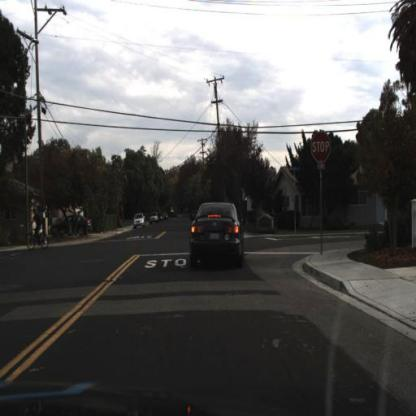biker: (25, 205, 50, 255)
car: (191, 203, 244, 263), (53, 215, 93, 238), (134, 212, 147, 230), (149, 208, 160, 226)
